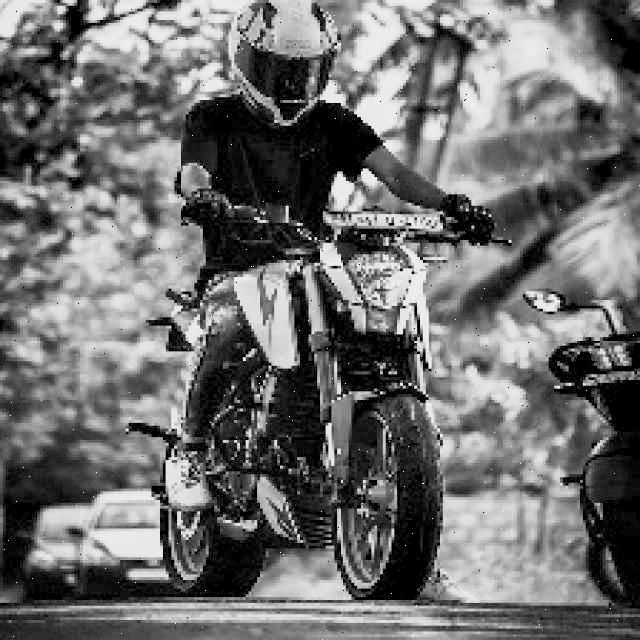Bike: (160, 225, 470, 611)
